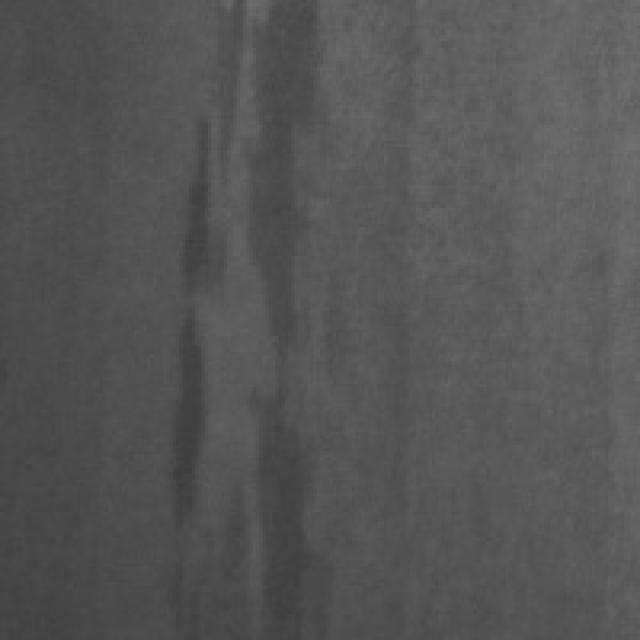inclusion: (163, 0, 332, 630), (371, 298, 442, 534)
